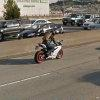Motorcycle: (28, 31, 68, 65)
